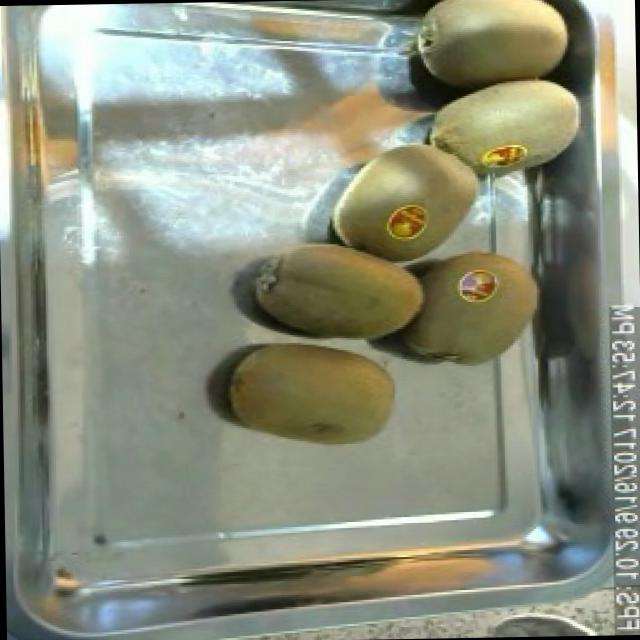Fruit: (239, 226, 435, 355), (214, 328, 407, 459), (317, 125, 493, 256), (383, 234, 551, 371), (405, 72, 593, 190), (396, 0, 586, 98)
